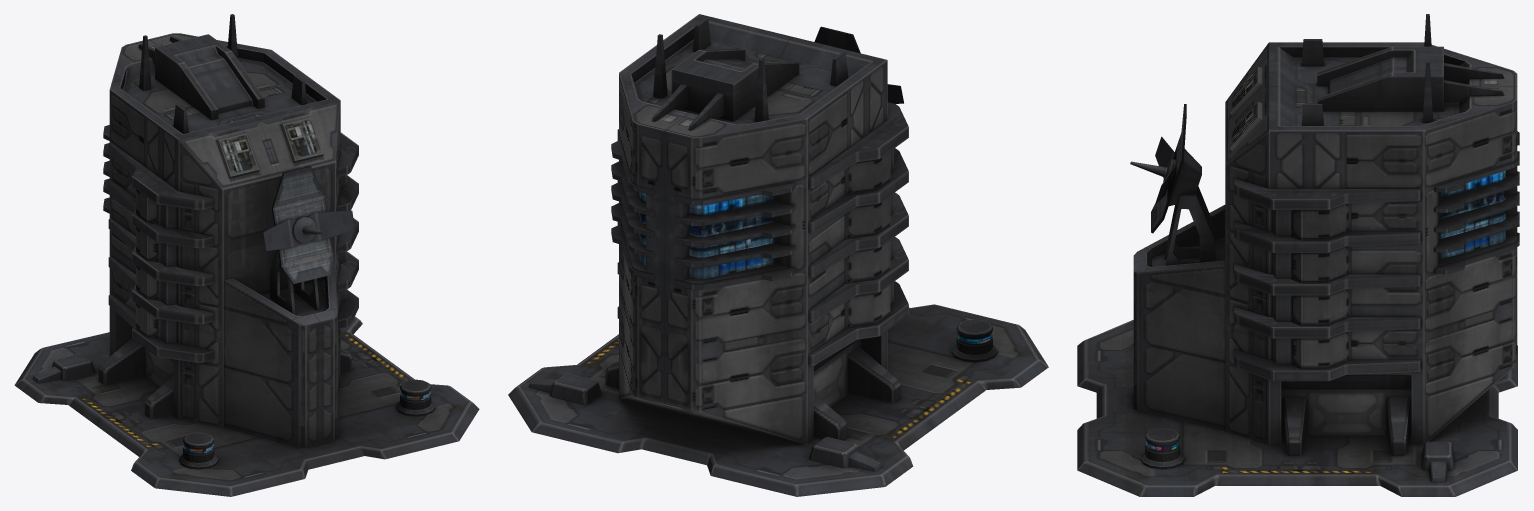
The model's file is Command-Center_Block.FBX.
The picture shows the model from 3 angles, left to right: view 1: azimuth 30°, elevation 25°; view 2: azimuth 150°, elevation 25°; view 3: azimuth 270°, elevation 25°; orthographic projection. The views are drawn at different scales.
Parts seen in each view (by area): view 1: Command-Center_Block; view 2: Command-Center_Block; view 3: Command-Center_Block.
Boxes of the visible parts, x1,y1,x2,y2 form: Command-Center_Block: [14, 14, 479, 496]; Command-Center_Block: [508, 14, 1048, 496]; Command-Center_Block: [1077, 14, 1519, 496].
Size of the model in its own units: 1760 by 1706 by 1850.
